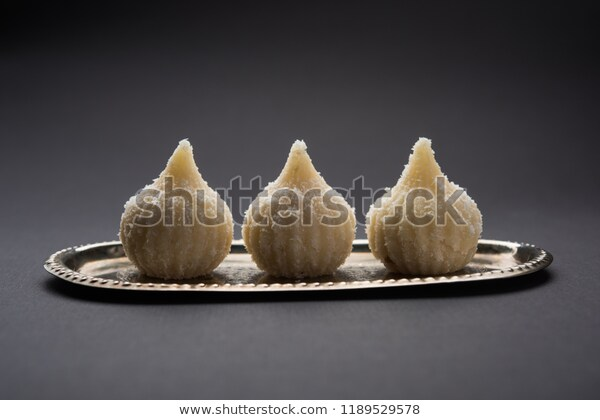modak: (121, 134, 233, 283), (371, 142, 487, 273), (244, 147, 357, 269)
